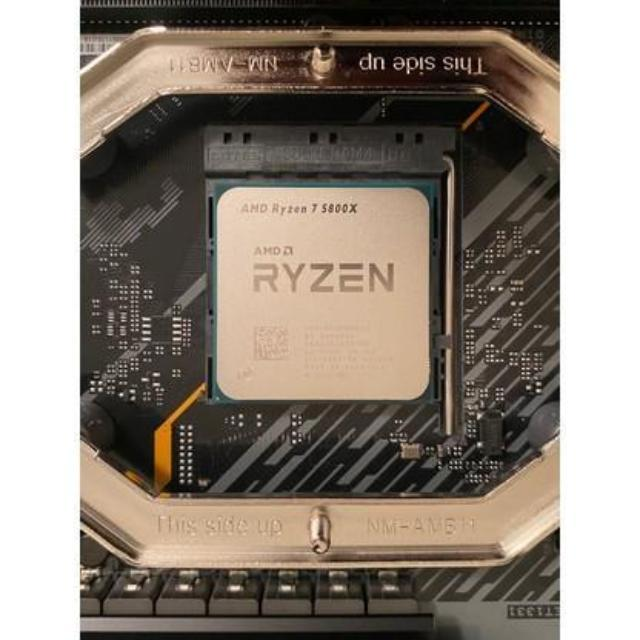CPU: (213, 182, 435, 408)
